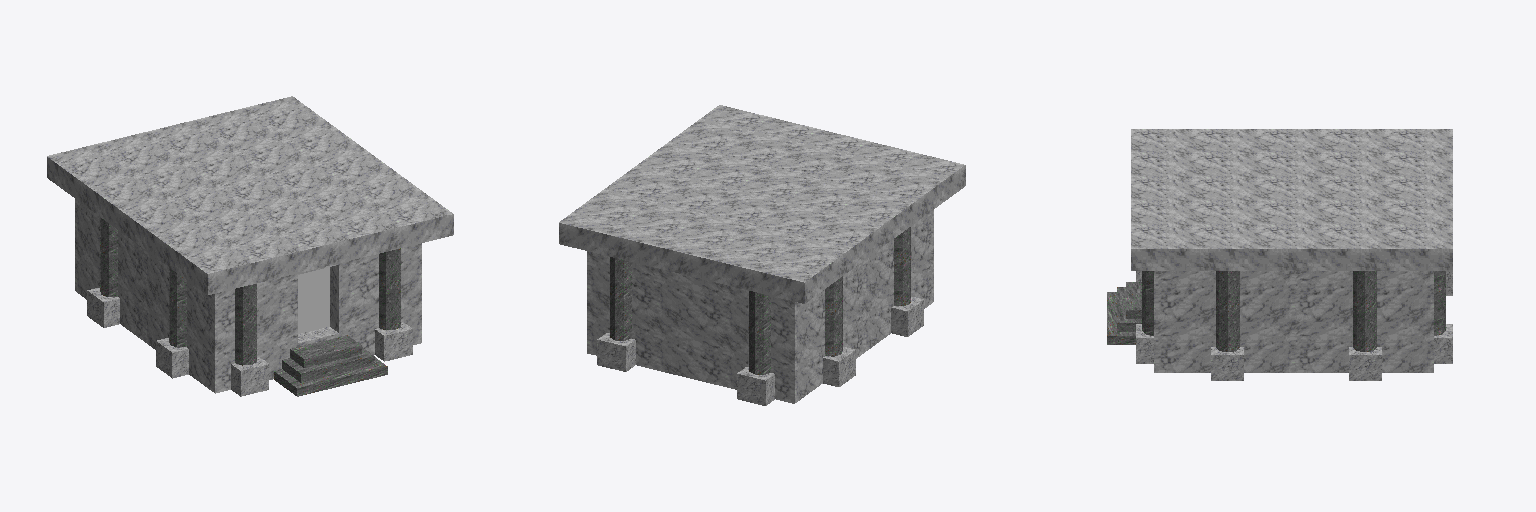
The picture shows the model from 3 angles: view 1: azimuth 30°, elevation 25°; view 2: azimuth 150°, elevation 25°; view 3: azimuth 270°, elevation 25°; orthographic projection.
Visible parts, largest first — view 1: model43138-node_model43138; view 2: model43138-node_model43138; view 3: model43138-node_model43138.
Part boxes in pixels (x1,y1,x2,y2): model43138-node_model43138: (47,96,453,396); model43138-node_model43138: (559,105,965,405); model43138-node_model43138: (1107,129,1452,380).
Bounding box in the file's own units: 12 × 6.21 × 14.6.
3 materials, 2 textured.